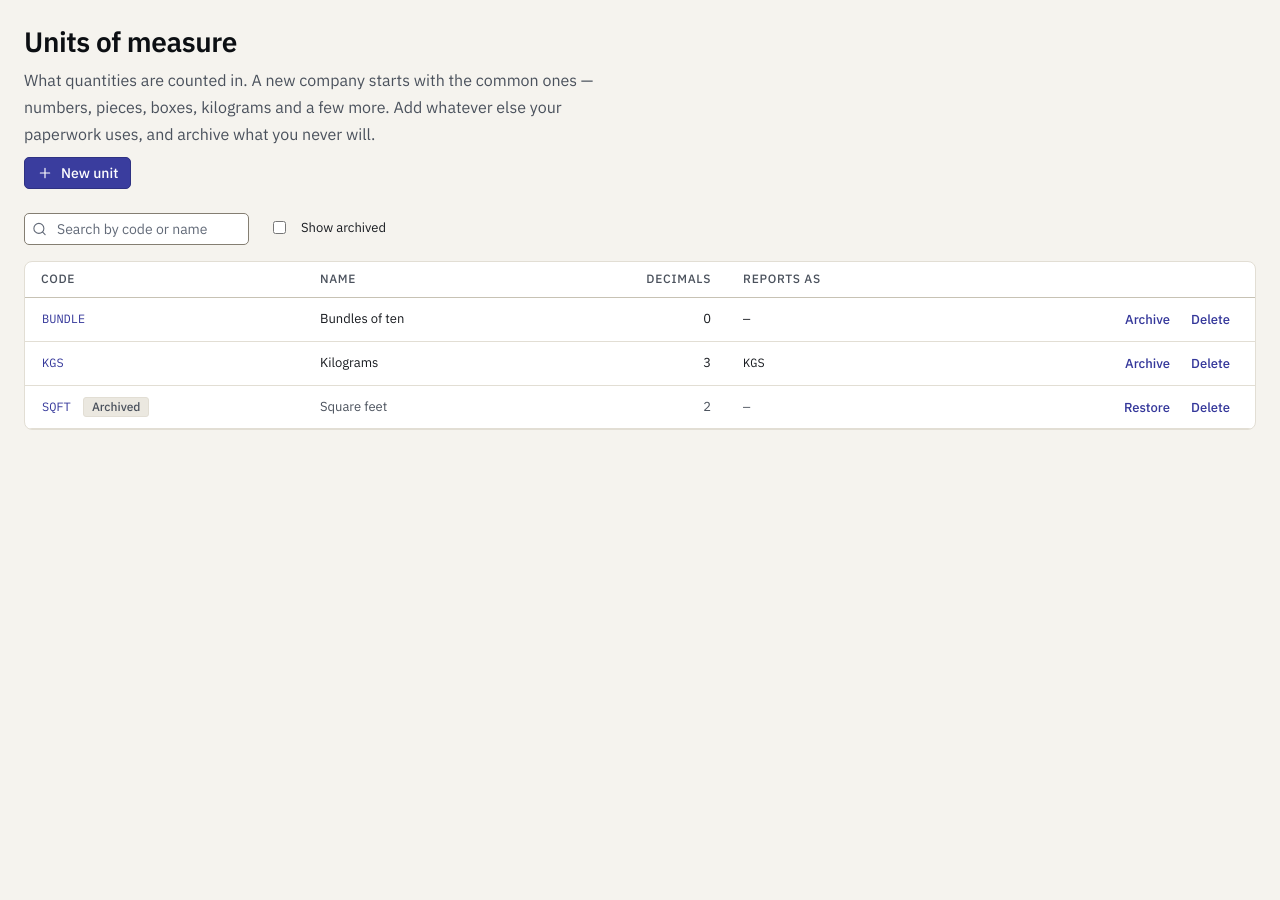
archiving › archives by code and says what is left alone
Click the 2nd button "Archive" at (1147, 363), box [1116,350,1179,376]
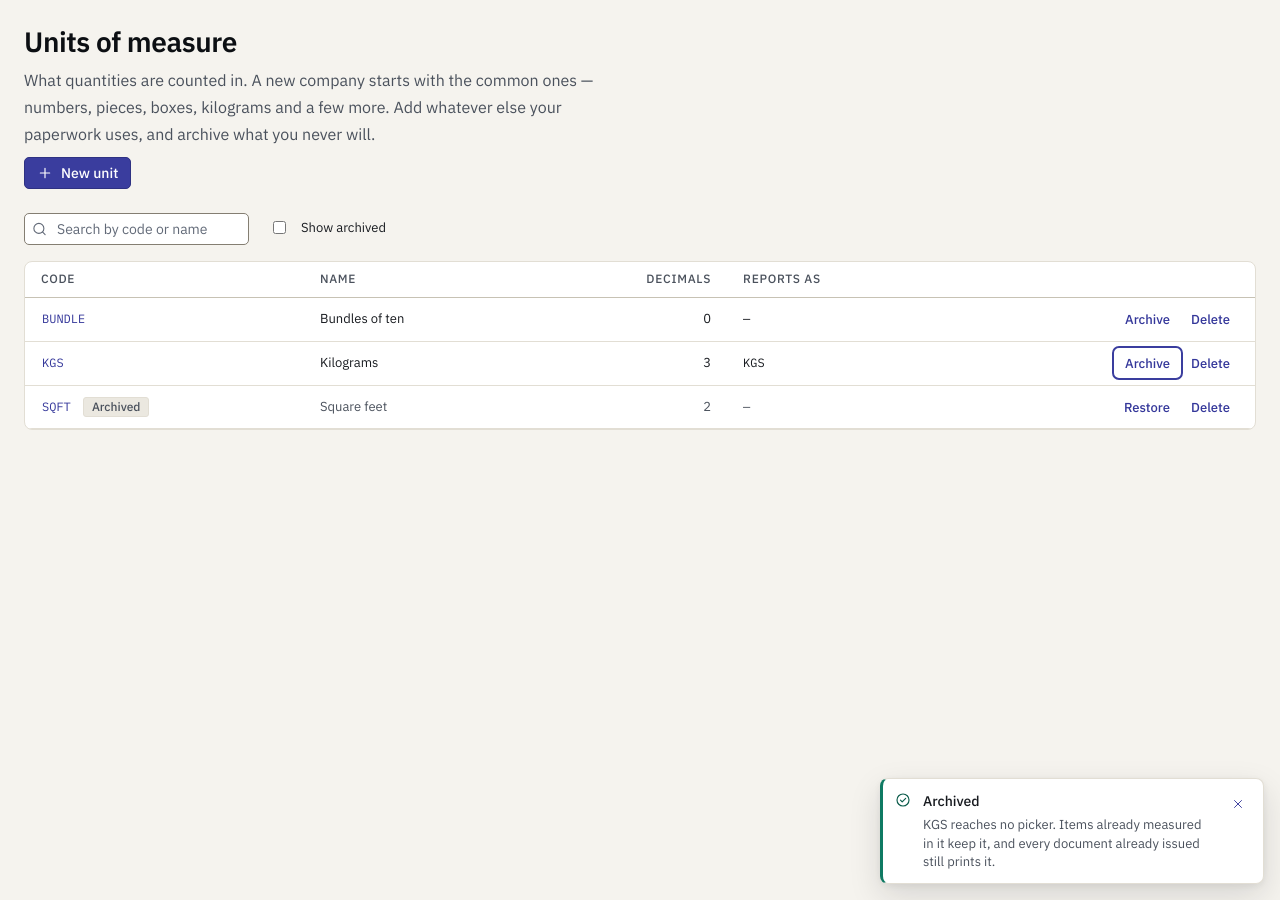
Result: the text "every document already issued still prints it" is shown at [923,816,1202,870]
